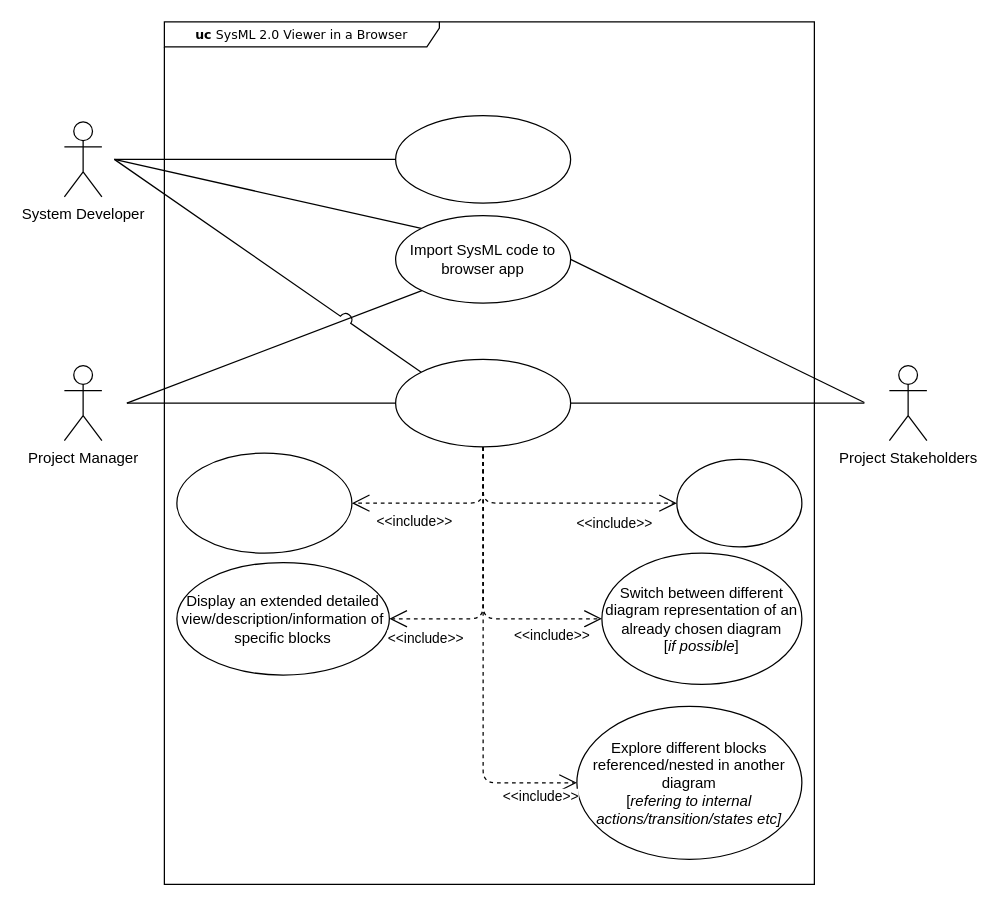
Image size: 999x906. Some labels were removed from this diagram. The shapes that lost their labels are listed below. From the top down, each one's centre as x and y in pixels, then its label:
At (482,158): "Write SysML code [Generated from Eclispe]".
At (482,402): "Interact with diagram view".
At (264,502): "Explore different diagrams referenced/nested in another diagram".
At (739,502): "Explore deeper levels of nested views".
